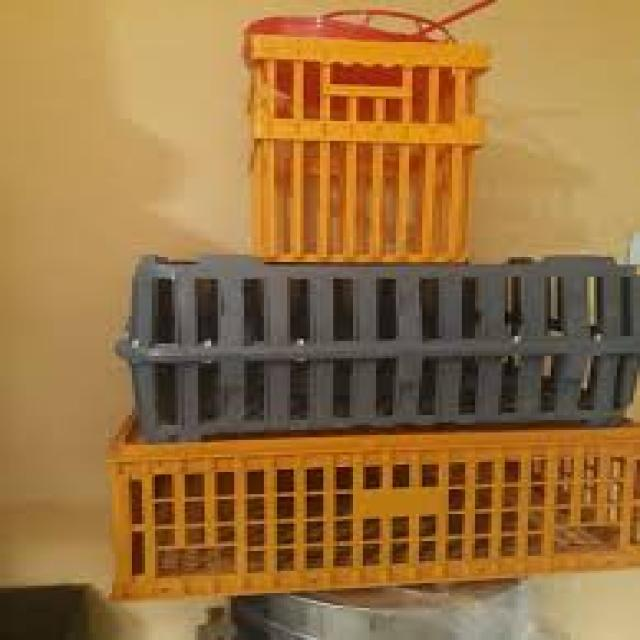basket: (244, 17, 488, 263)
